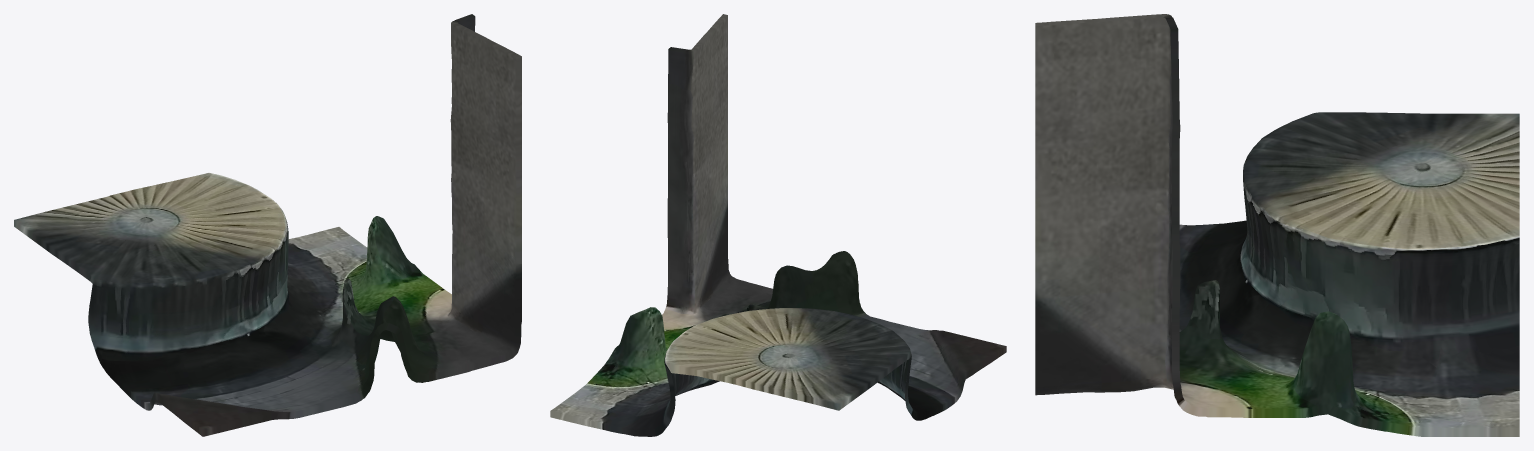
File: z20-167771-405238-h0-yup-uvflip-v3-world.glb
3 views of the same model, side by side, from view 1: azimuth 30°, elevation 25°; view 2: azimuth 150°, elevation 25°; view 3: azimuth 270°, elevation 25° (orthographic). The views are drawn at different scales.
Bounding box in the file's own units: 30.16 × 28.16 × 30.32.
Materials: 1 (1 with a texture image).
